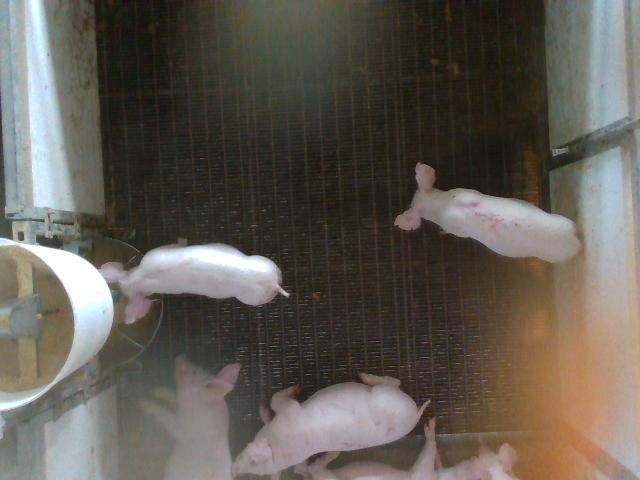pig-5: (394, 164, 581, 262)
